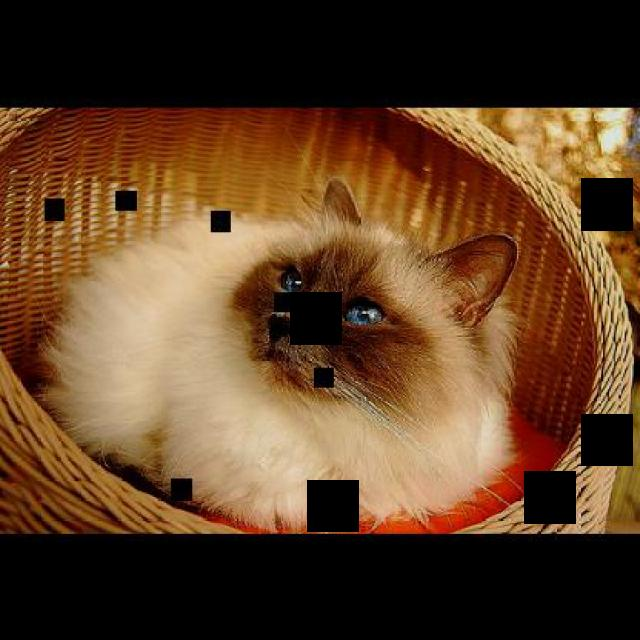unauthorized: (37, 177, 521, 531)
